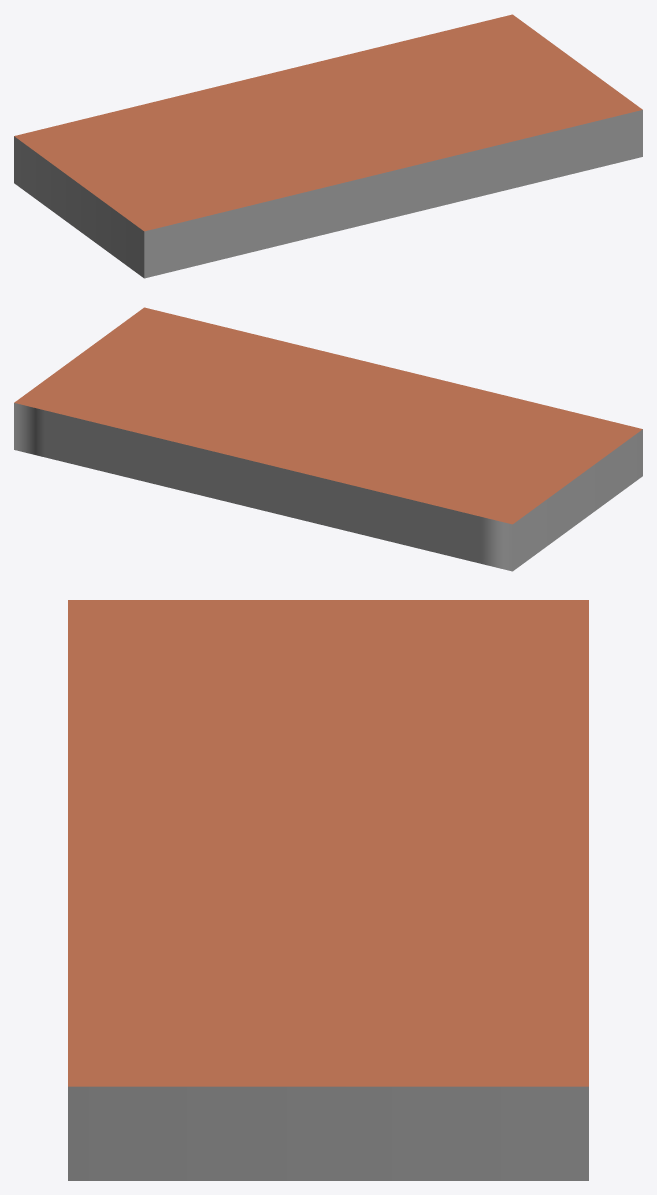
File: Ground_Multiplier_A.fbx
3 renders of one model, top to bottom at view 1: azimuth 30°, elevation 25°; view 2: azimuth 150°, elevation 25°; view 3: azimuth 270°, elevation 25°, orthographic. The views are drawn at different scales.
Visible parts, largest first — view 1: Ground_Multiplier_A; view 2: Ground_Multiplier_A; view 3: Ground_Multiplier_A.
Boxes of the visible parts, box(x1,y1,x2,y2) form: Ground_Multiplier_A: box(14, 14, 642, 278); Ground_Multiplier_A: box(14, 307, 642, 571); Ground_Multiplier_A: box(68, 600, 588, 1180).
Size of the model in its own units: 360 by 32.46 by 163.
